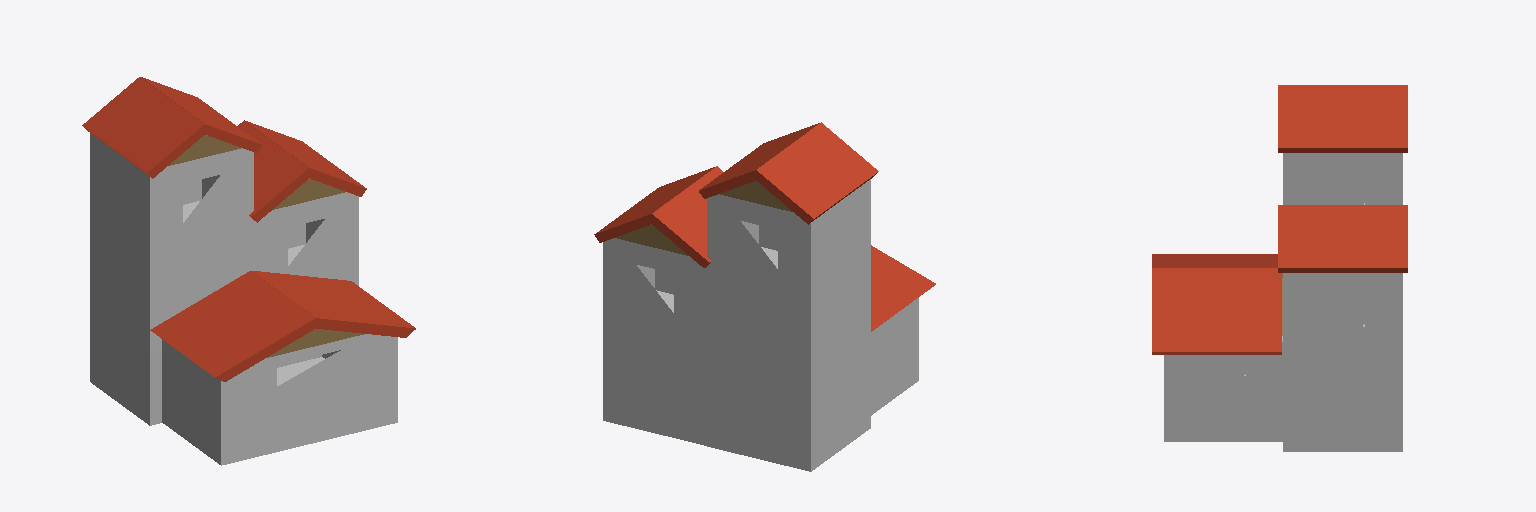
File: house3.obj
The picture shows the model from 3 angles: view 1: azimuth 30°, elevation 25°; view 2: azimuth 150°, elevation 25°; view 3: azimuth 270°, elevation 25°; orthographic projection.
Parts seen in each view (by area): view 1: body_Cube, body.002_Cube.006, house.002_roof.002, house_roof, body.001_Cube.004, house.001_roof.001, base_Cube.001, roofpanel.002_Cube.007, roofpanel.001_Cube.003, roofpanel_Cube.005; view 2: body_Cube, body.001_Cube.004, base_Cube.001, house_roof, house.001_roof.001, body.002_Cube.006, house.002_roof.002, roofpanel.001_Cube.003, roofpanel_Cube.005; view 3: body.001_Cube.004, house.002_roof.002, body.002_Cube.006, house_roof, house.001_roof.001, body_Cube.
Part boxes in pixels (x1,y1,x2,y2): body_Cube: (90,133,253,355); body.002_Cube.006: (162,334,397,465); house.002_roof.002: (150,271,415,381); house_roof: (82,77,261,178); body.001_Cube.004: (254,192,358,285); house.001_roof.001: (238,120,366,222); base_Cube.001: (90,313,161,425); roofpanel.002_Cube.007: (267,329,363,357); roofpanel.001_Cube.003: (273,178,344,209); roofpanel_Cube.005: (169,135,240,165); body_Cube: (707,179,870,401); body.001_Cube.004: (603,238,706,445); base_Cube.001: (707,359,870,471); house_roof: (699,122,878,224); house.001_roof.001: (594,166,723,267); body.002_Cube.006: (871,298,918,415); house.002_roof.002: (871,245,935,331); roofpanel.001_Cube.003: (616,224,688,255); roofpanel_Cube.005: (720,181,792,211); body.001_Cube.004: (1283,273,1402,451); house.002_roof.002: (1152,254,1281,354); body.002_Cube.006: (1164,336,1282,441); house_roof: (1278,85,1407,152); house.001_roof.001: (1278,205,1407,272); body_Cube: (1283,153,1402,204).
Size of the model in its own units: 0.9446 by 1.19 by 0.9513.